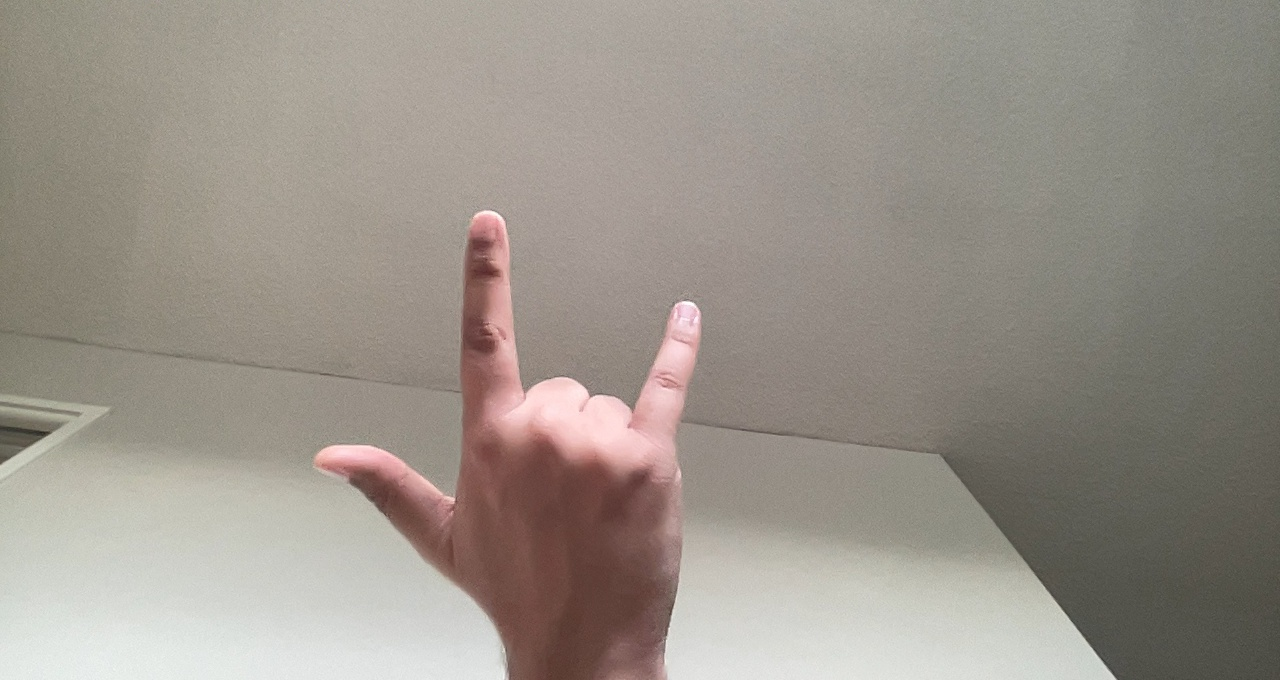rockon sign: (312, 188, 741, 661)
